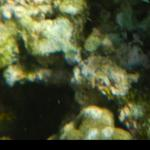dead: (1, 1, 147, 136)
